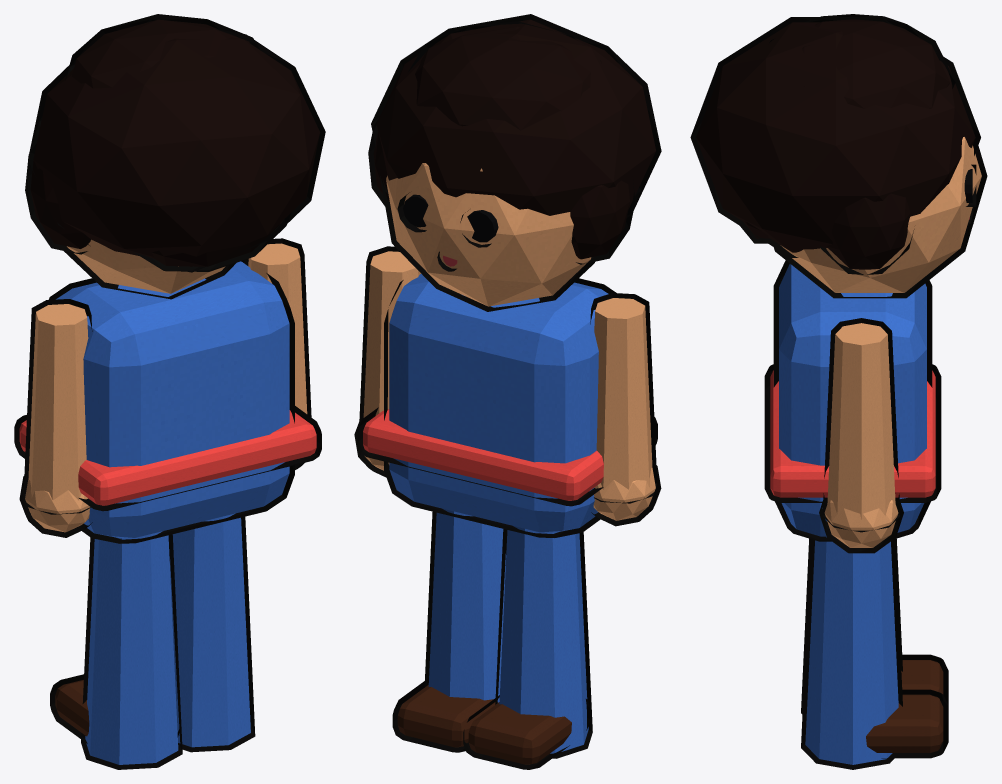
File: wonder_walker_v11.glb
3 renders of one model, left to right at view 1: azimuth 30°, elevation 25°; view 2: azimuth 150°, elevation 25°; view 3: azimuth 270°, elevation 25°, orthographic. The views are drawn at different scales.
Visible parts, largest first — view 1: WonderWalker_Body, WonderWalker_Body_Outline; view 2: WonderWalker_Body, WonderWalker_Body_Outline; view 3: WonderWalker_Body, WonderWalker_Body_Outline.
Part boxes in pixels (x1,y1,x2,y2): WonderWalker_Body: (19, 19, 320, 764); WonderWalker_Body_Outline: (14, 14, 325, 769); WonderWalker_Body: (363, 19, 655, 764); WonderWalker_Body_Outline: (354, 14, 661, 769); WonderWalker_Body: (696, 19, 981, 764); WonderWalker_Body_Outline: (690, 14, 987, 769).
Bounding box in the file's own units: 0.4183 × 0.9713 × 0.3721.
8 materials, 8 textured.
